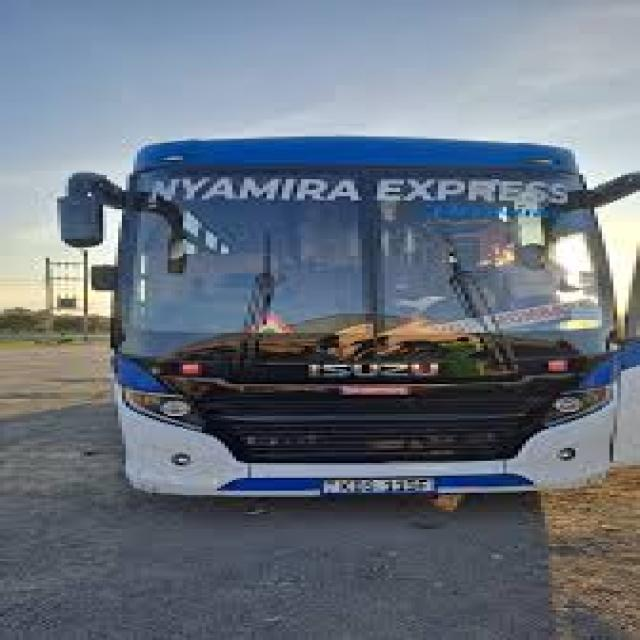bus: (9, 56, 640, 533)
